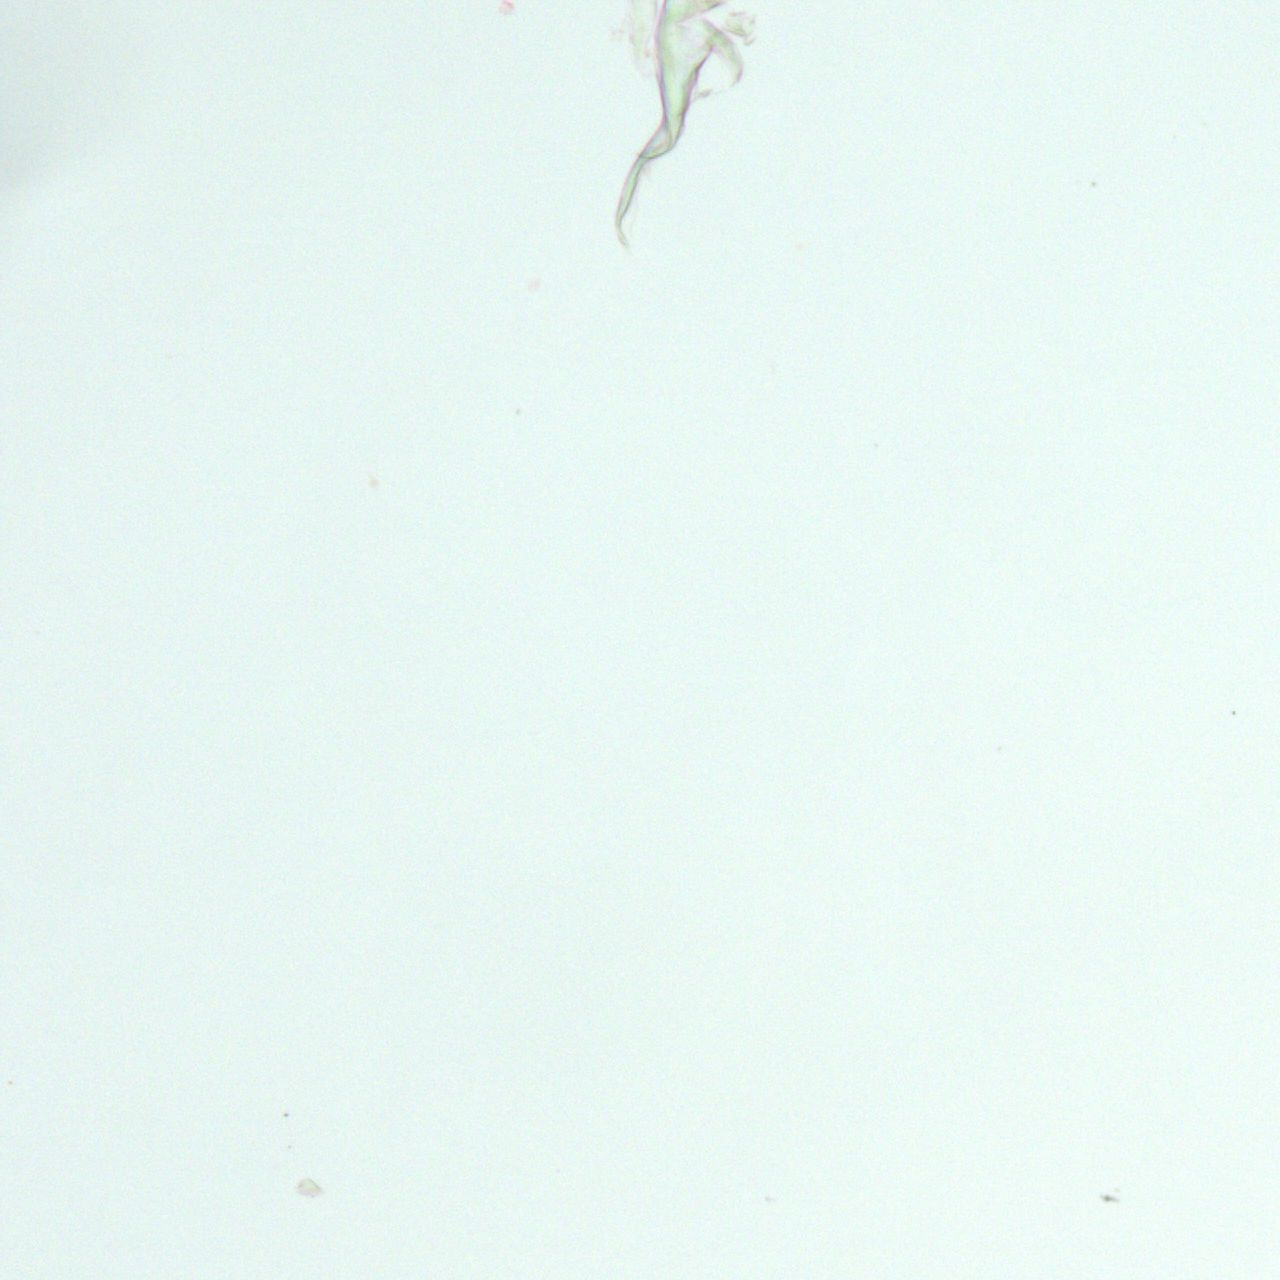dust: (1099, 1192, 1118, 1203), (1231, 710, 1235, 715)
